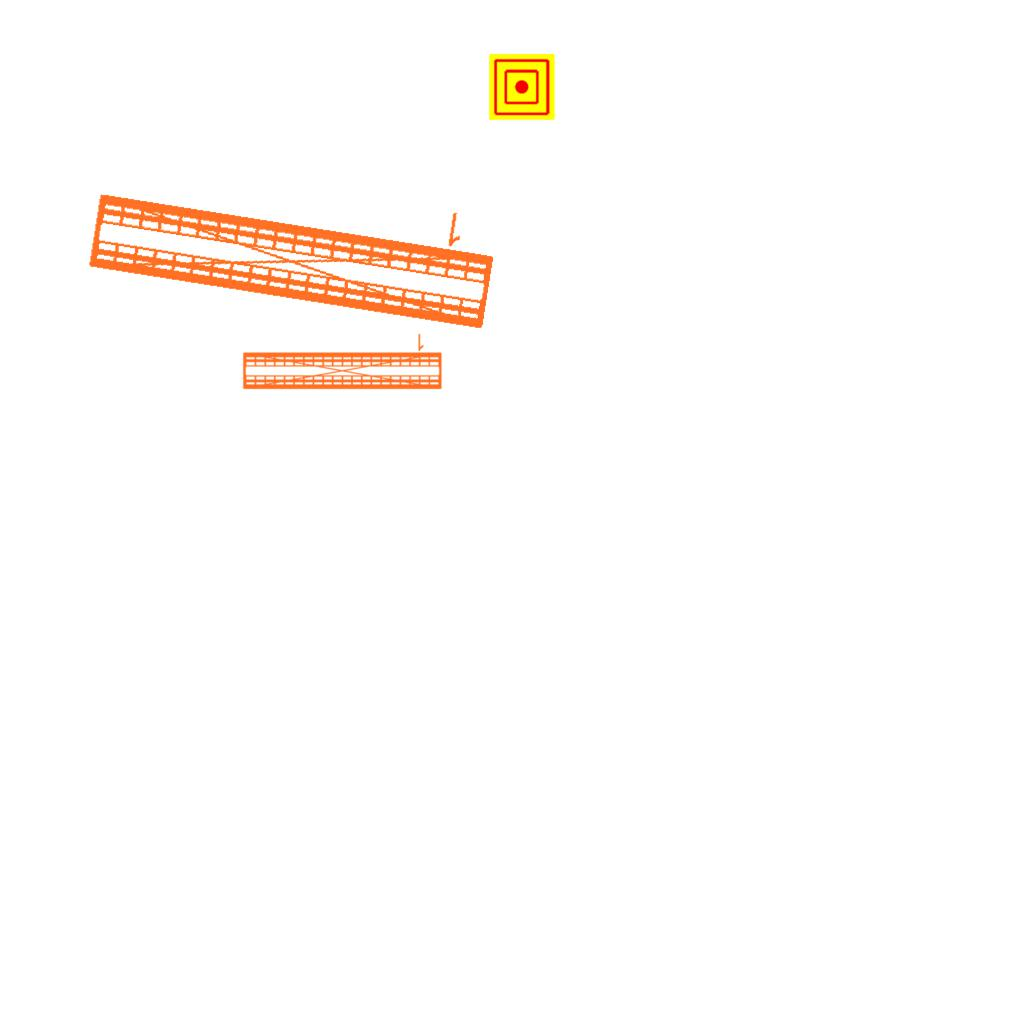Buero_Pendelleuchten_LED: (79, 146, 508, 340), (239, 329, 445, 394)
NAM-Nichtautomatischer_Melder: (489, 54, 555, 120)
